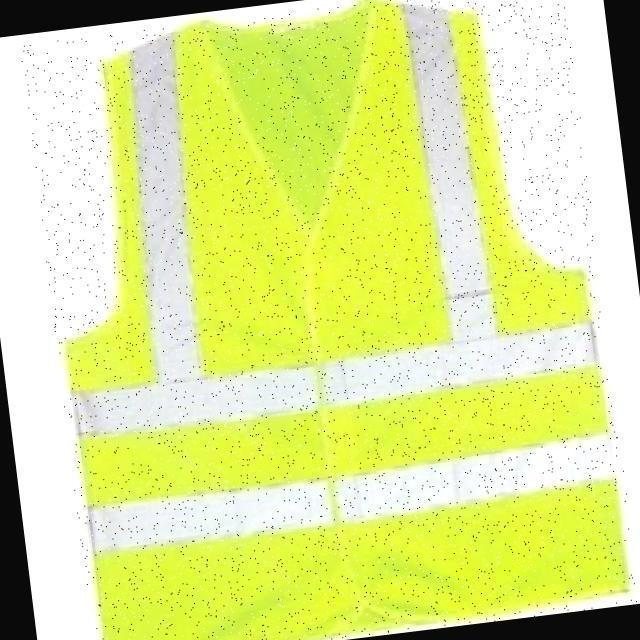vest: (19, 0, 640, 640)
